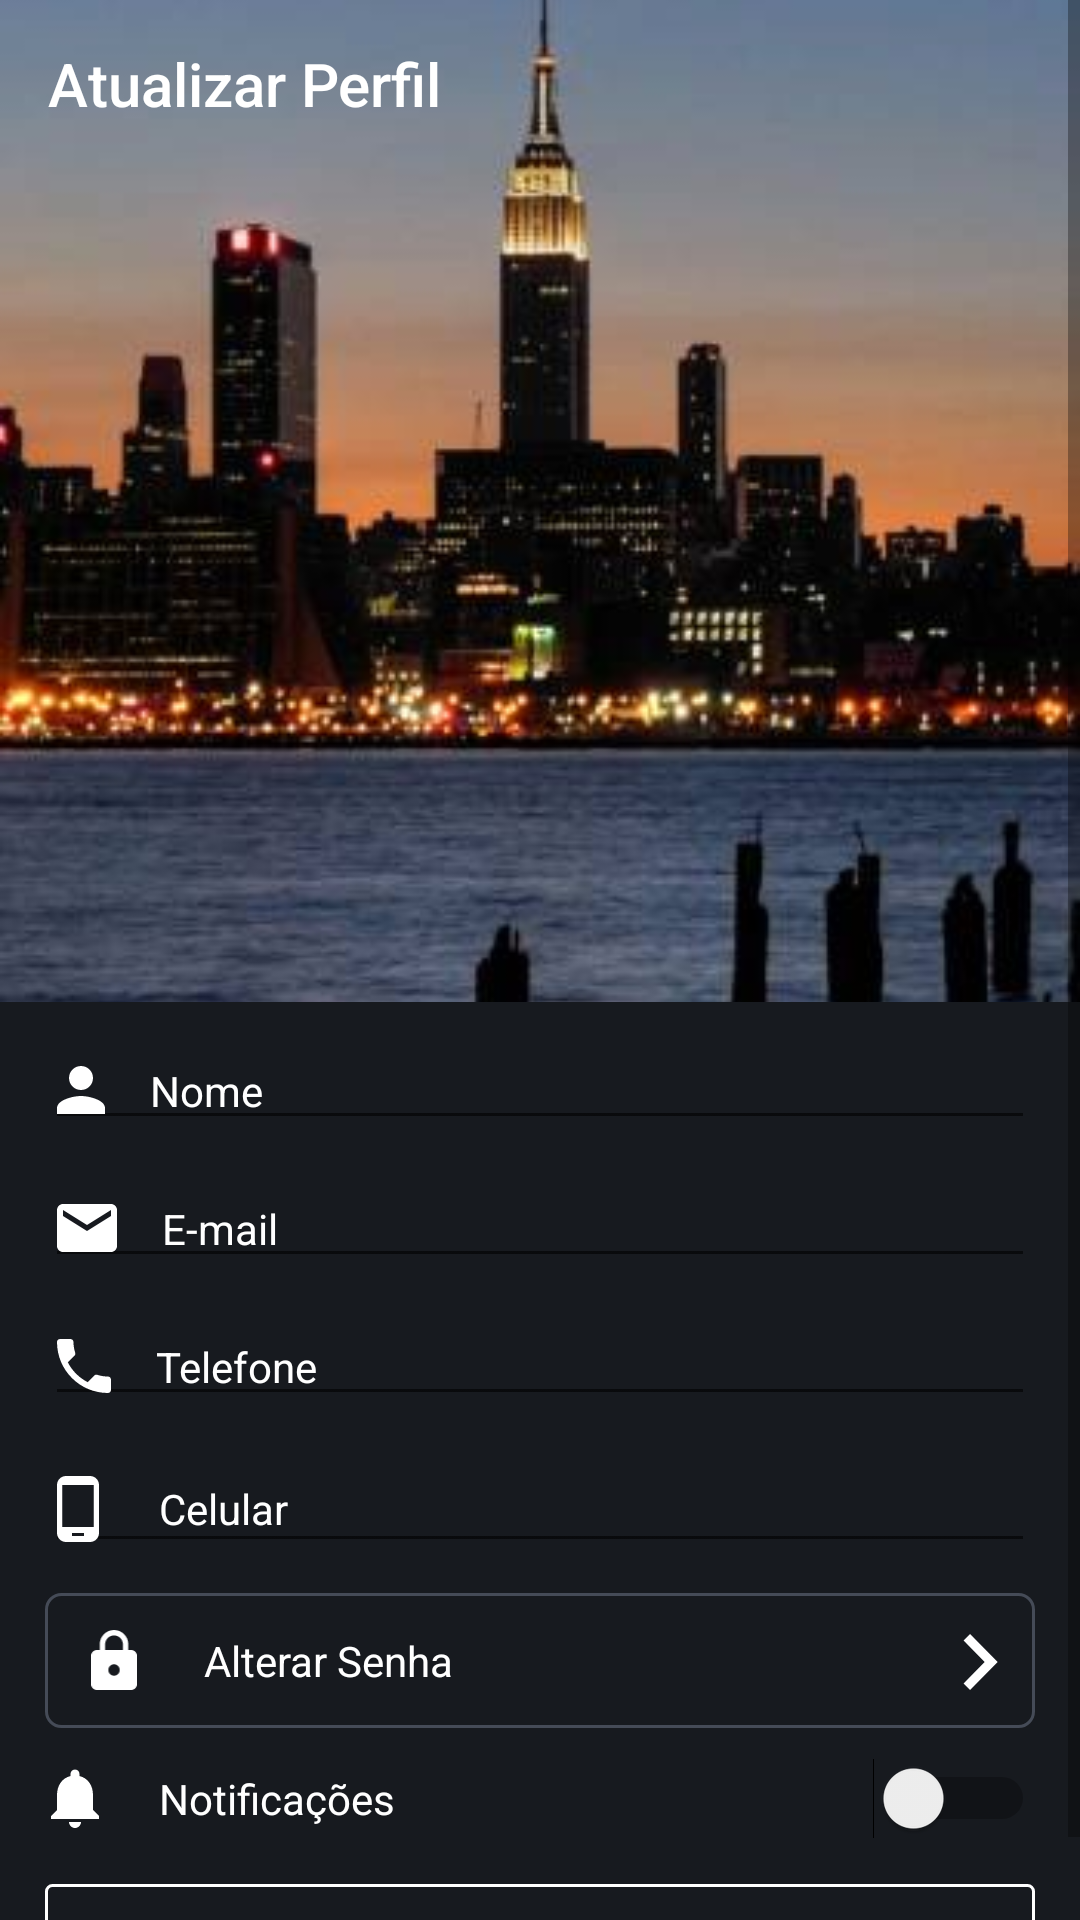

Where to tap for icons on this 1080 × 1920 app screen, as [x,y]:
arrow rigjt: [980,1662]
lock: [114,1660]
notifications: [75,1798]
